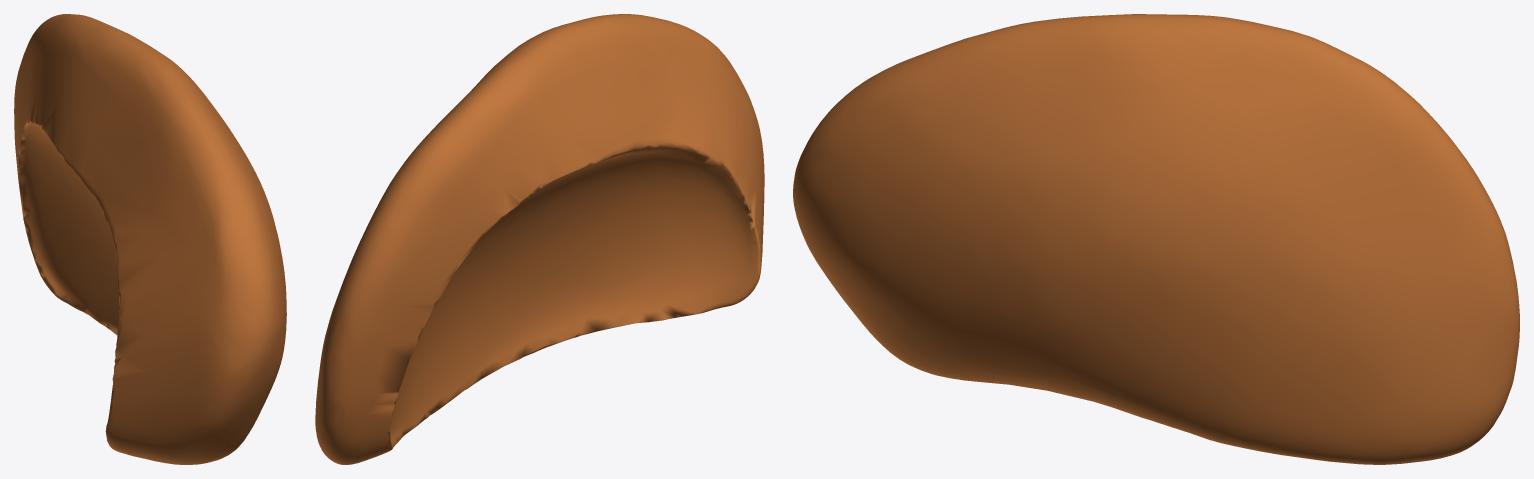
The model's file is Putamen_left.glb.
3 views of the same model, side by side, from view 1: azimuth 30°, elevation 25°; view 2: azimuth 150°, elevation 25°; view 3: azimuth 270°, elevation 25° (orthographic). The views are drawn at different scales.
Visible parts, largest first — view 1: Putamen.l_grp1.048; view 2: Putamen.l_grp1.048; view 3: Putamen.l_grp1.048.
Part boxes in pixels (x1,y1,x2,y2): Putamen.l_grp1.048: [14, 14, 286, 464]; Putamen.l_grp1.048: [315, 14, 764, 464]; Putamen.l_grp1.048: [793, 14, 1519, 464].
Size of the model in its own units: 0.0177 by 0.0253 by 0.0416.
